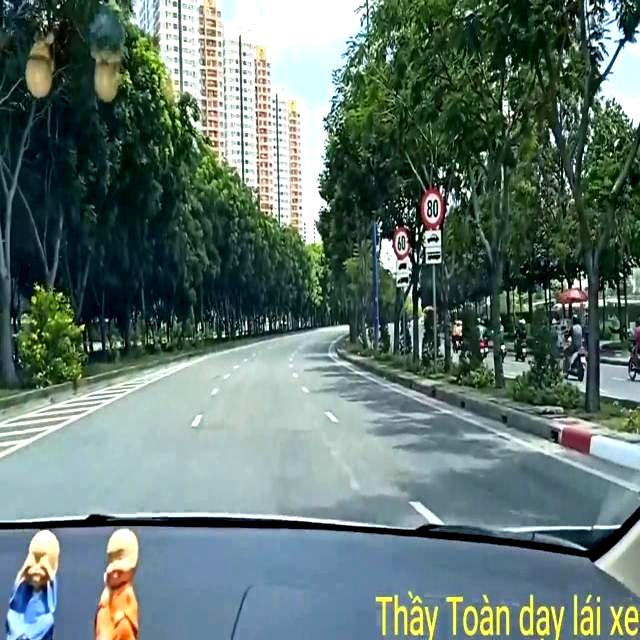Biển phụ: (421, 222, 442, 264), (396, 256, 412, 288)
Giới hạn tốc độ: 60Km/h: (393, 219, 410, 254)
Giới hạn tốc độ: 80Km/h: (419, 178, 445, 226)
